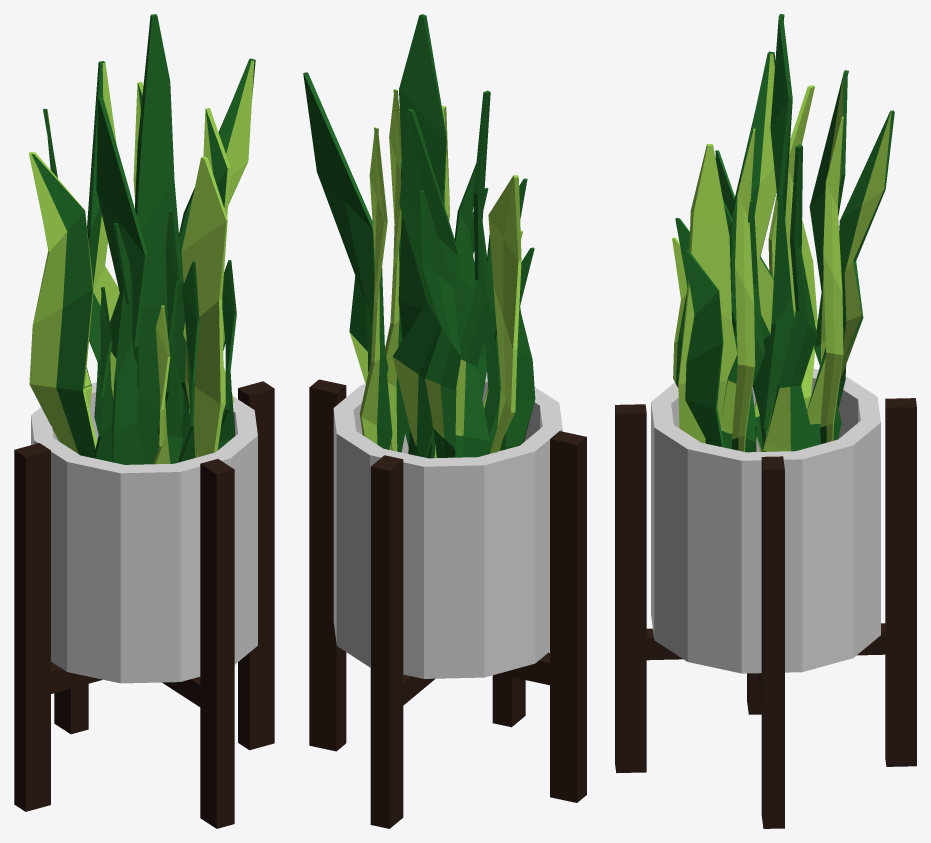
The model's file is plant1.fbx.
The picture shows the model from 3 angles, left to right: view 1: azimuth 30°, elevation 25°; view 2: azimuth 150°, elevation 25°; view 3: azimuth 270°, elevation 25°; orthographic projection.
Visible parts, largest first — view 1: Cylinder.007; view 2: Cylinder.007; view 3: Cylinder.007.
Boxes of the visible parts, box(x1,y1,x2,y2) form: Cylinder.007: box(14, 14, 274, 828); Cylinder.007: box(303, 14, 586, 828); Cylinder.007: box(615, 14, 916, 828).
Bounding box in the file's own units: 39.77 × 110 × 39.77.
